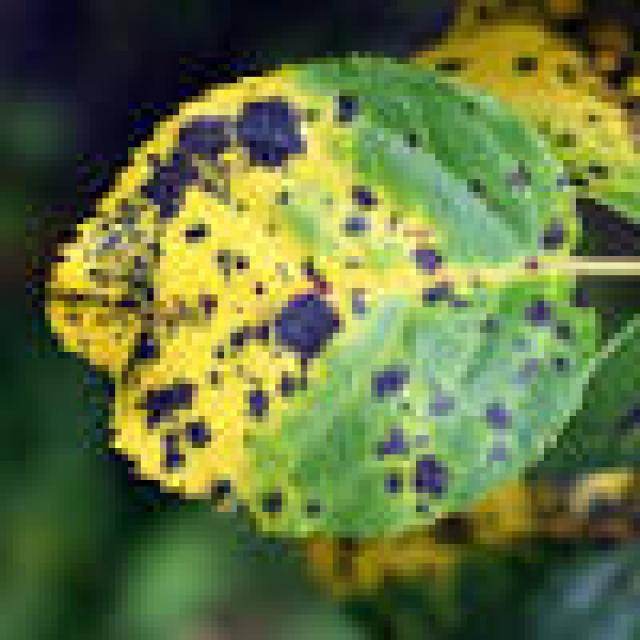black-spot: (7, 77, 390, 461)
